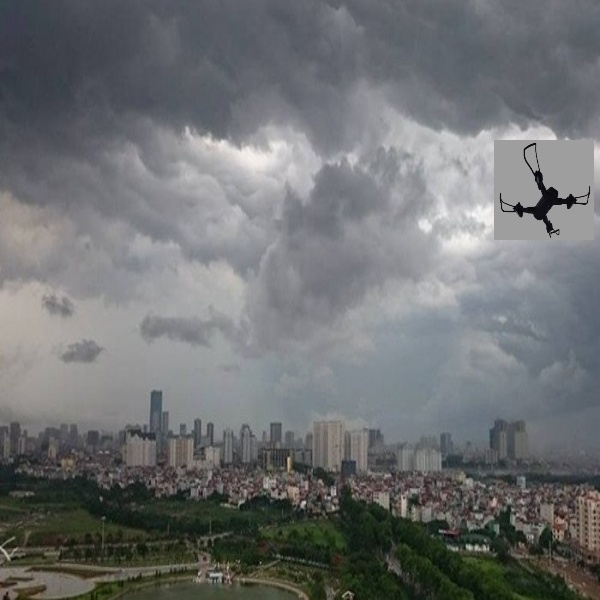drone: (493, 137, 586, 236)
